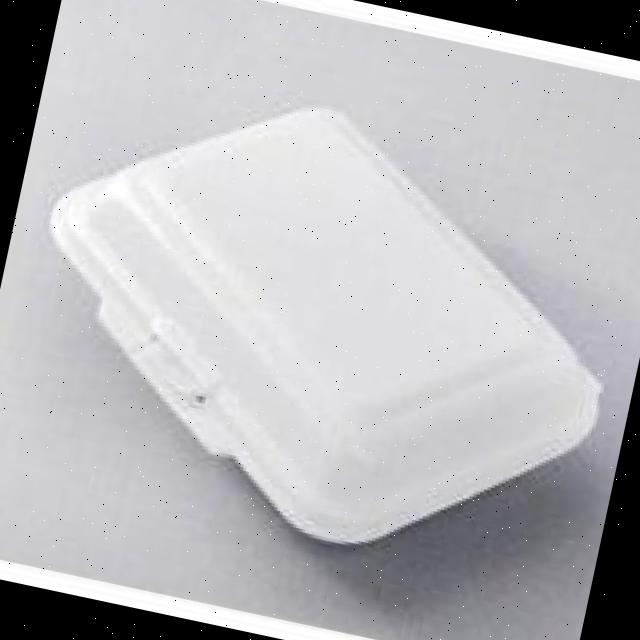styrofoam: (0, 47, 640, 593)
